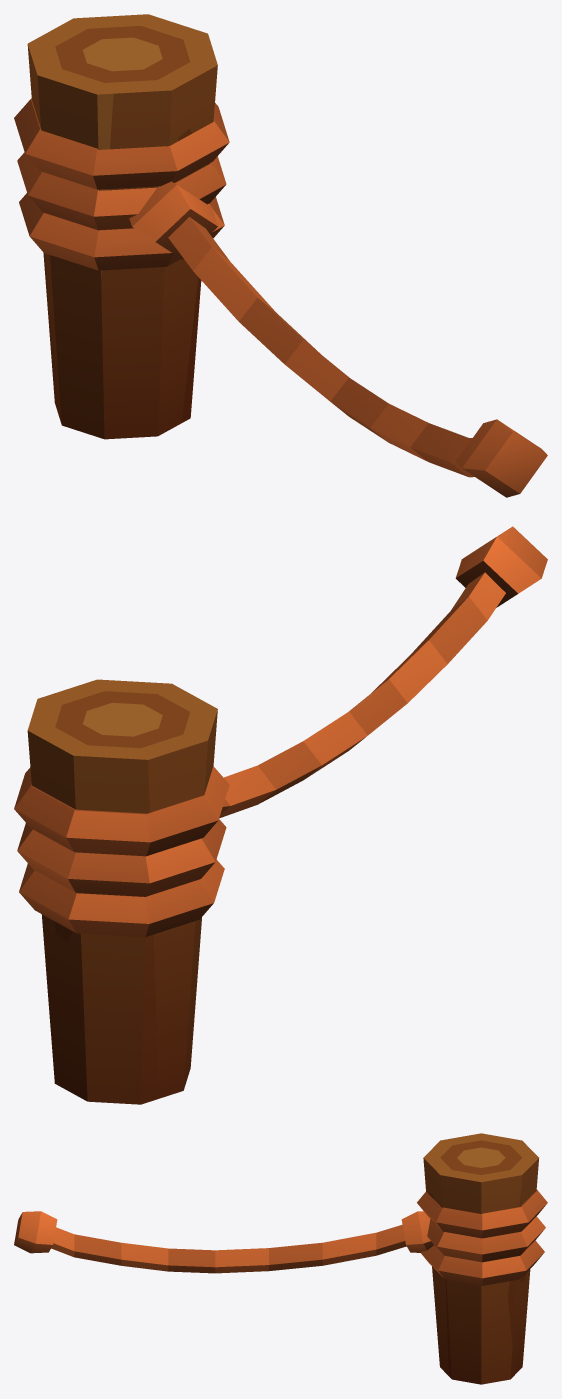
Rendered from fence_rope.glb.
The picture shows the model from 3 angles, top to bottom: view 1: azimuth 30°, elevation 25°; view 2: azimuth 150°, elevation 25°; view 3: azimuth 270°, elevation 25°; orthographic projection. The views are drawn at different scales.
Parts seen in each view (by area): view 1: fence_rope; view 2: fence_rope; view 3: fence_rope.
Part boxes in pixels (x1,y1,x2,y2): fence_rope: [14, 14, 547, 497]; fence_rope: [14, 526, 547, 1104]; fence_rope: [14, 1133, 547, 1384].
Size of the model in its own units: 0.2472 by 0.4352 by 1.01.
Materials: 1 (1 with a texture image).
